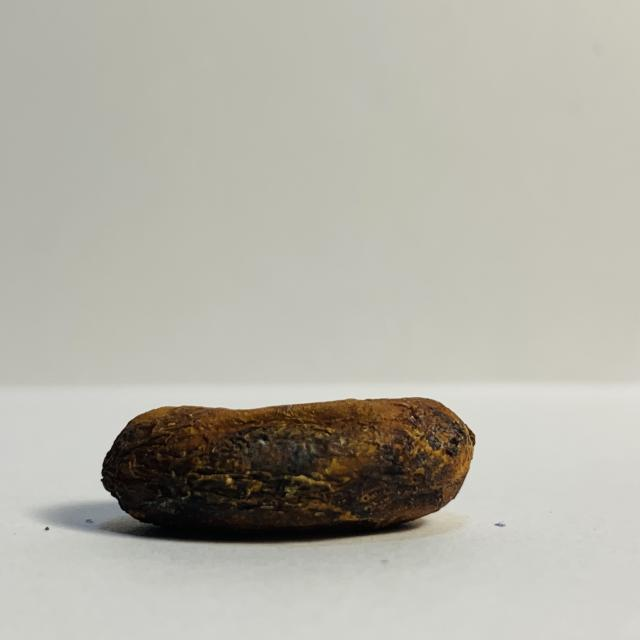Fine_cocoabeans: (0, 379, 553, 555)
